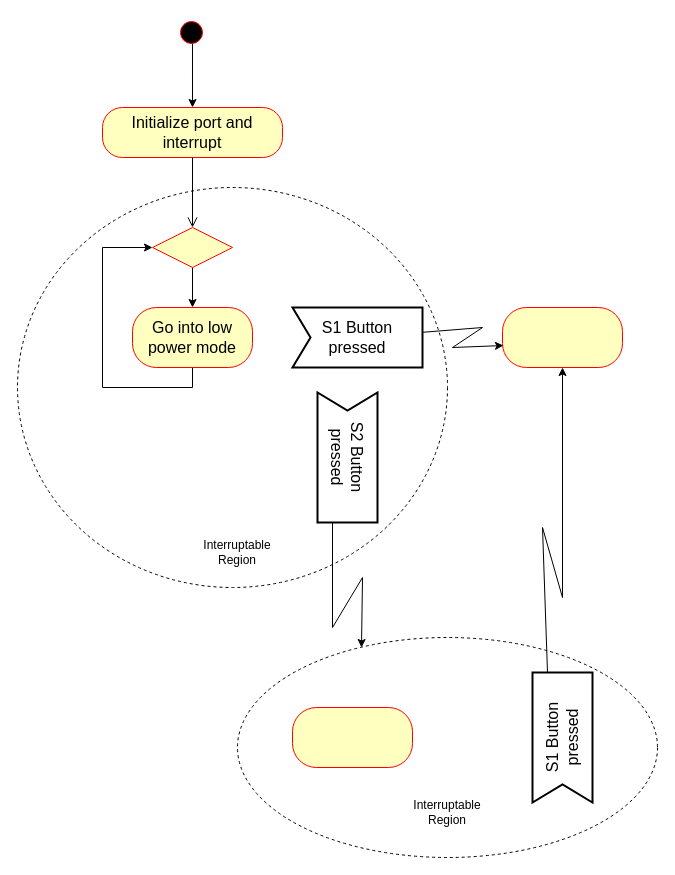
Some shapes in this 675 by 875 pixel diagram are drawn without their labels. Here are the shapes that lost their labels. From the top down, the centre of each, then its label:
At (562,337): "Toggle Turquoise Led".
At (352,737): "Toggle Yellow Led".
